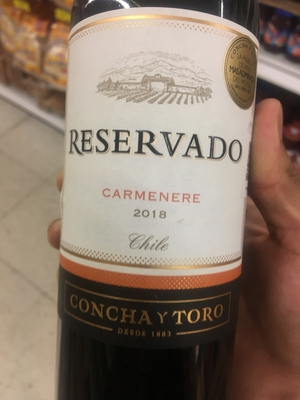reservado carmenere: (55, 1, 261, 400)
